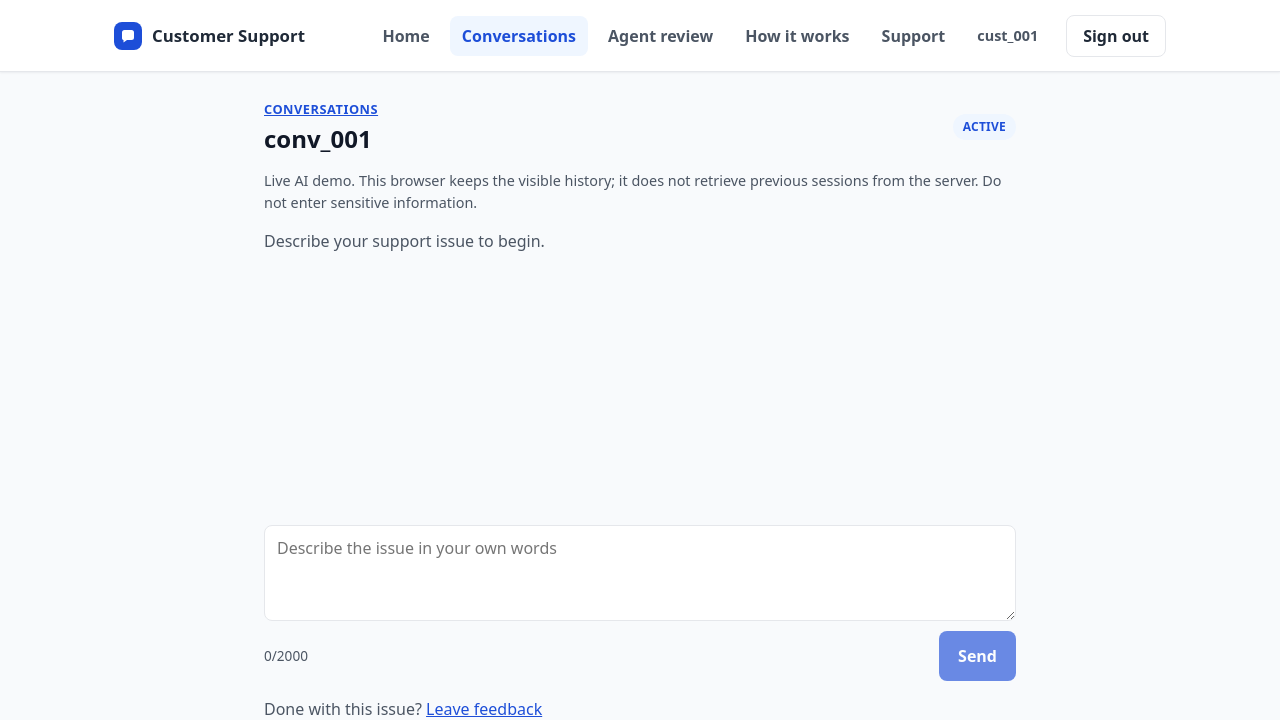
Test case: customer support workflows › clears the sent draft when returning before a pending reply arrives
This screenshot has width=1280, height=720.
Type "  Help while navigating  " into the text box labelled "Describe the issue" at x=640, y=573, box [264, 525, 1016, 621]
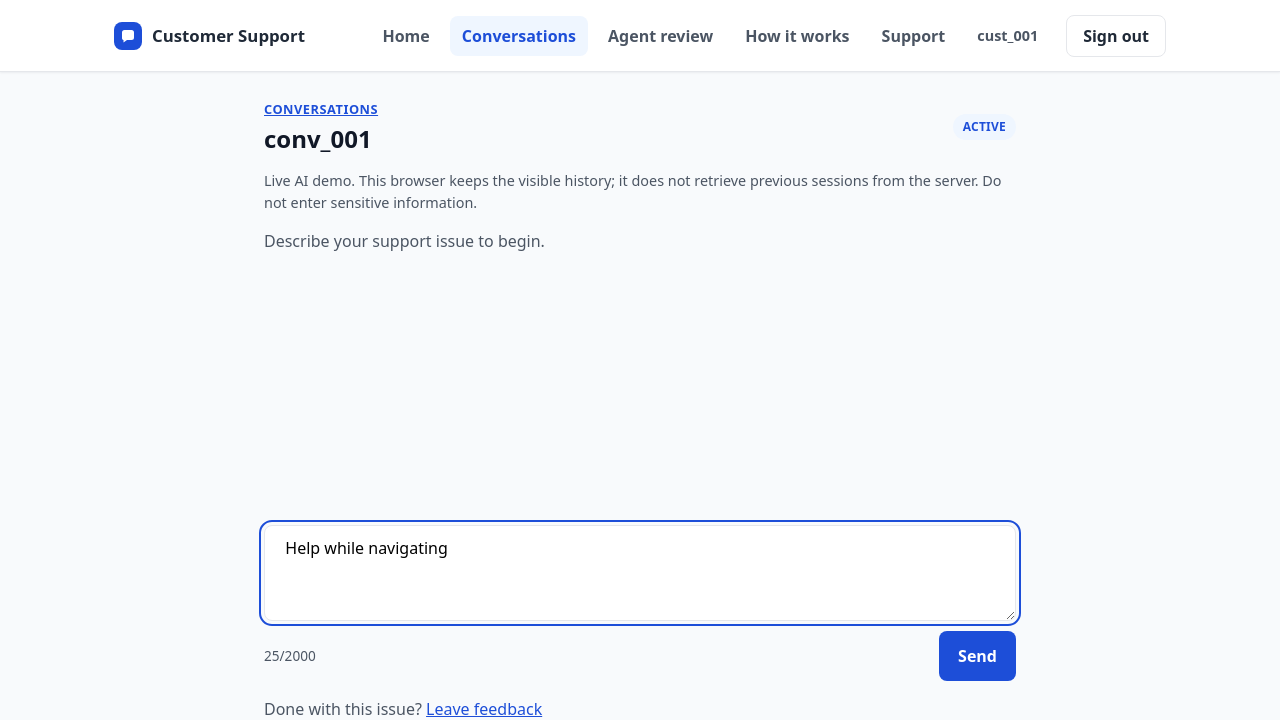
Click the button "Send" at x=978, y=656, box [939, 631, 1016, 681]
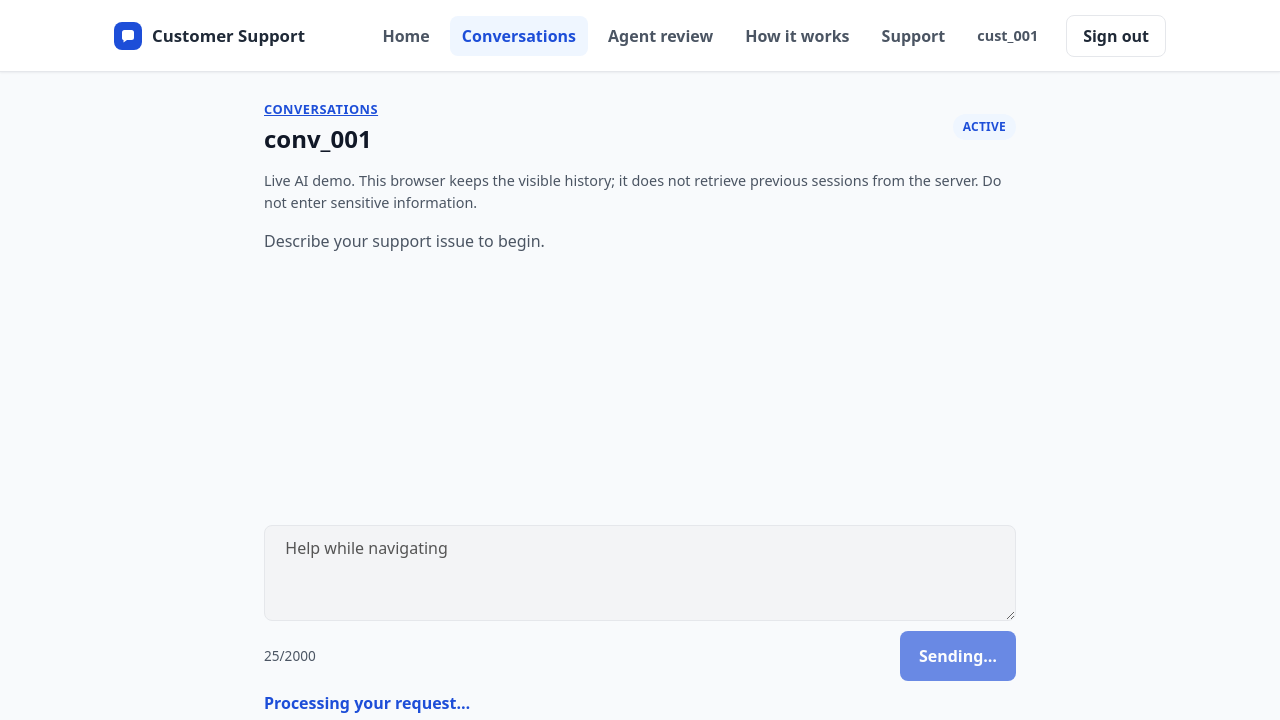
Click the link "Conversations" next to "Home" at x=519, y=36, box [450, 16, 588, 56]
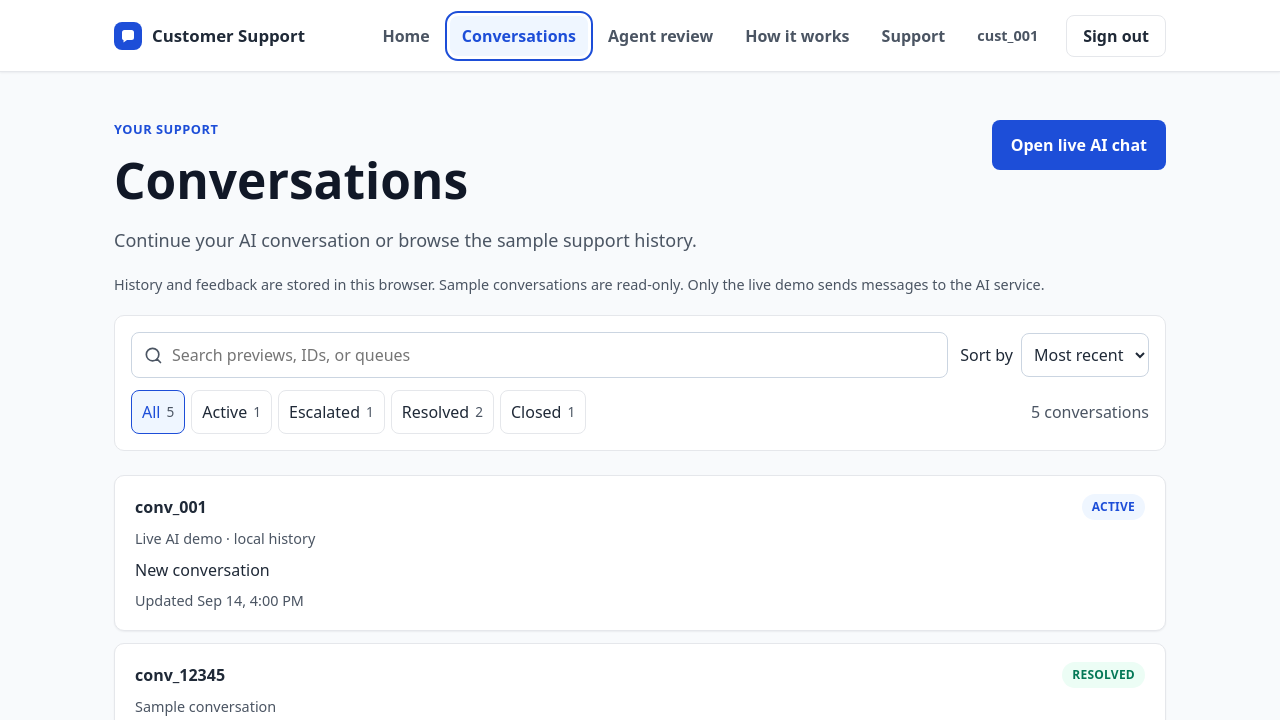
Click the button "Open live AI chat" at x=1079, y=145, box [992, 120, 1166, 170]
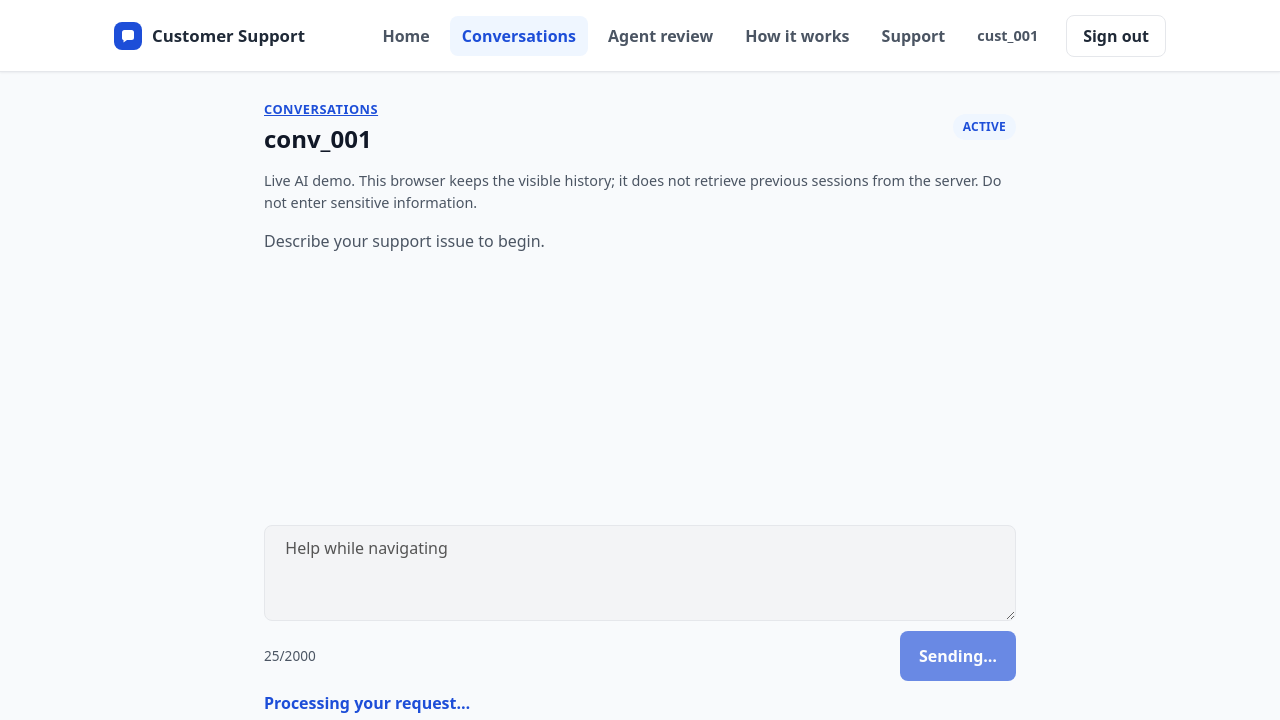
Now the text box named "Describe the issue" is disabled, box [264, 525, 1016, 621]
Submit the form named "Describe the issue", box [264, 525, 1016, 715]
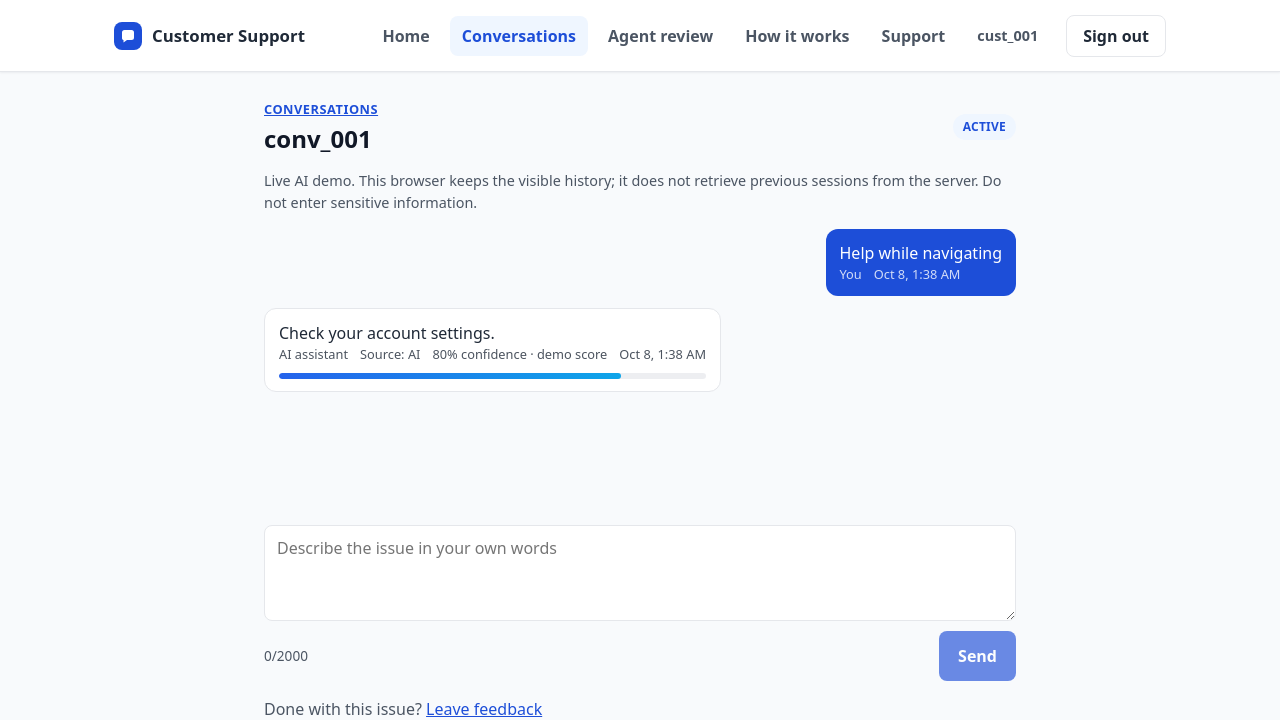
Now the button "Send" is disabled, box [939, 631, 1016, 681]
Now the text "Check your account settings." is shown, box [279, 322, 495, 344]
Now the text box labelled "Describe the issue" is empty, box [264, 525, 1016, 621]
